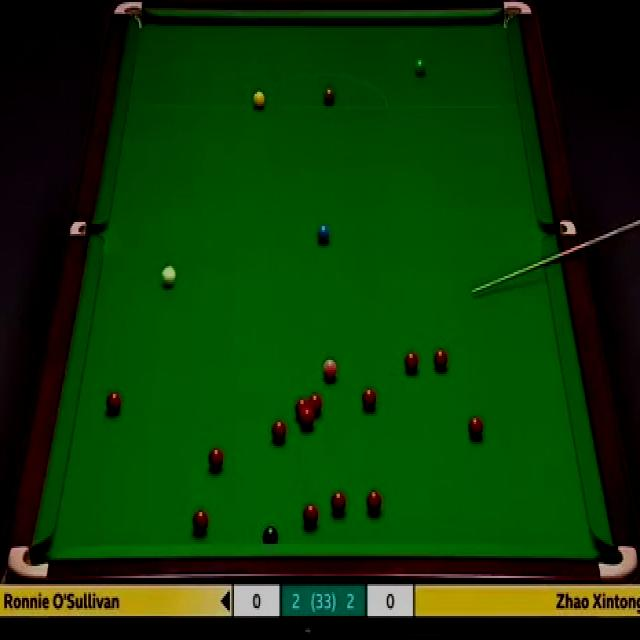black-ball: (262, 526, 278, 542)
blue-ball: (316, 223, 329, 244)
brown-ball: (322, 87, 336, 106)
green-ball: (415, 56, 426, 75)
pink-ball: (321, 353, 336, 377)
red-ball: (207, 446, 225, 472), (330, 491, 347, 517), (192, 508, 209, 533), (466, 413, 483, 438), (300, 406, 315, 434), (268, 416, 284, 442), (302, 502, 318, 528), (306, 392, 323, 416), (432, 347, 448, 372), (105, 392, 122, 414), (362, 386, 377, 410), (404, 352, 420, 372), (367, 491, 382, 512), (296, 398, 309, 421)
white-ball: (162, 266, 176, 286)
yellow-ball: (250, 90, 266, 110)
